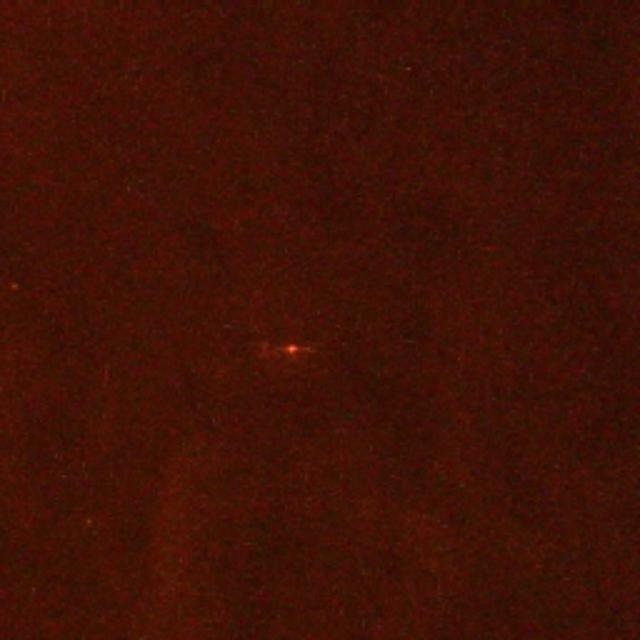Fragment: (285, 342, 297, 356)
